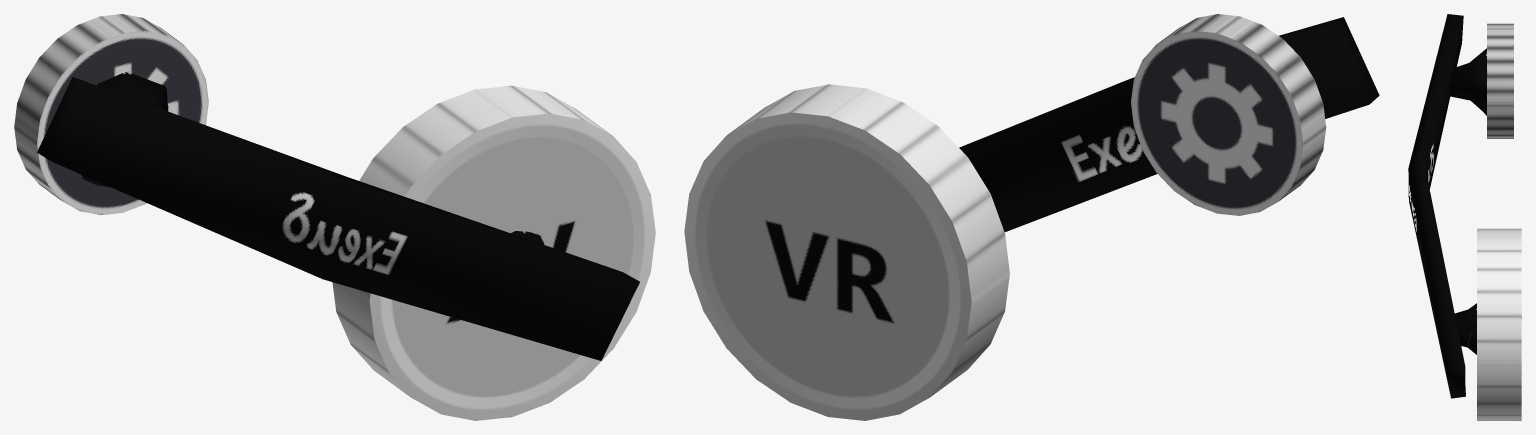
The model's file is followerUI.fbx.
3 renders of one model, left to right at view 1: azimuth 30°, elevation 25°; view 2: azimuth 150°, elevation 25°; view 3: azimuth 270°, elevation 25°, orthographic. The views are drawn at different scales.
Parts seen in each view (by area): view 1: rVB.001; view 2: rVB.001; view 3: rVB.001.
Part boxes in pixels (x1,y1,x2,y2): rVB.001: [14, 14, 655, 420]; rVB.001: [684, 14, 1379, 420]; rVB.001: [1408, 14, 1521, 420].
Size of the model in its own units: 146 by 38.69 by 104.
